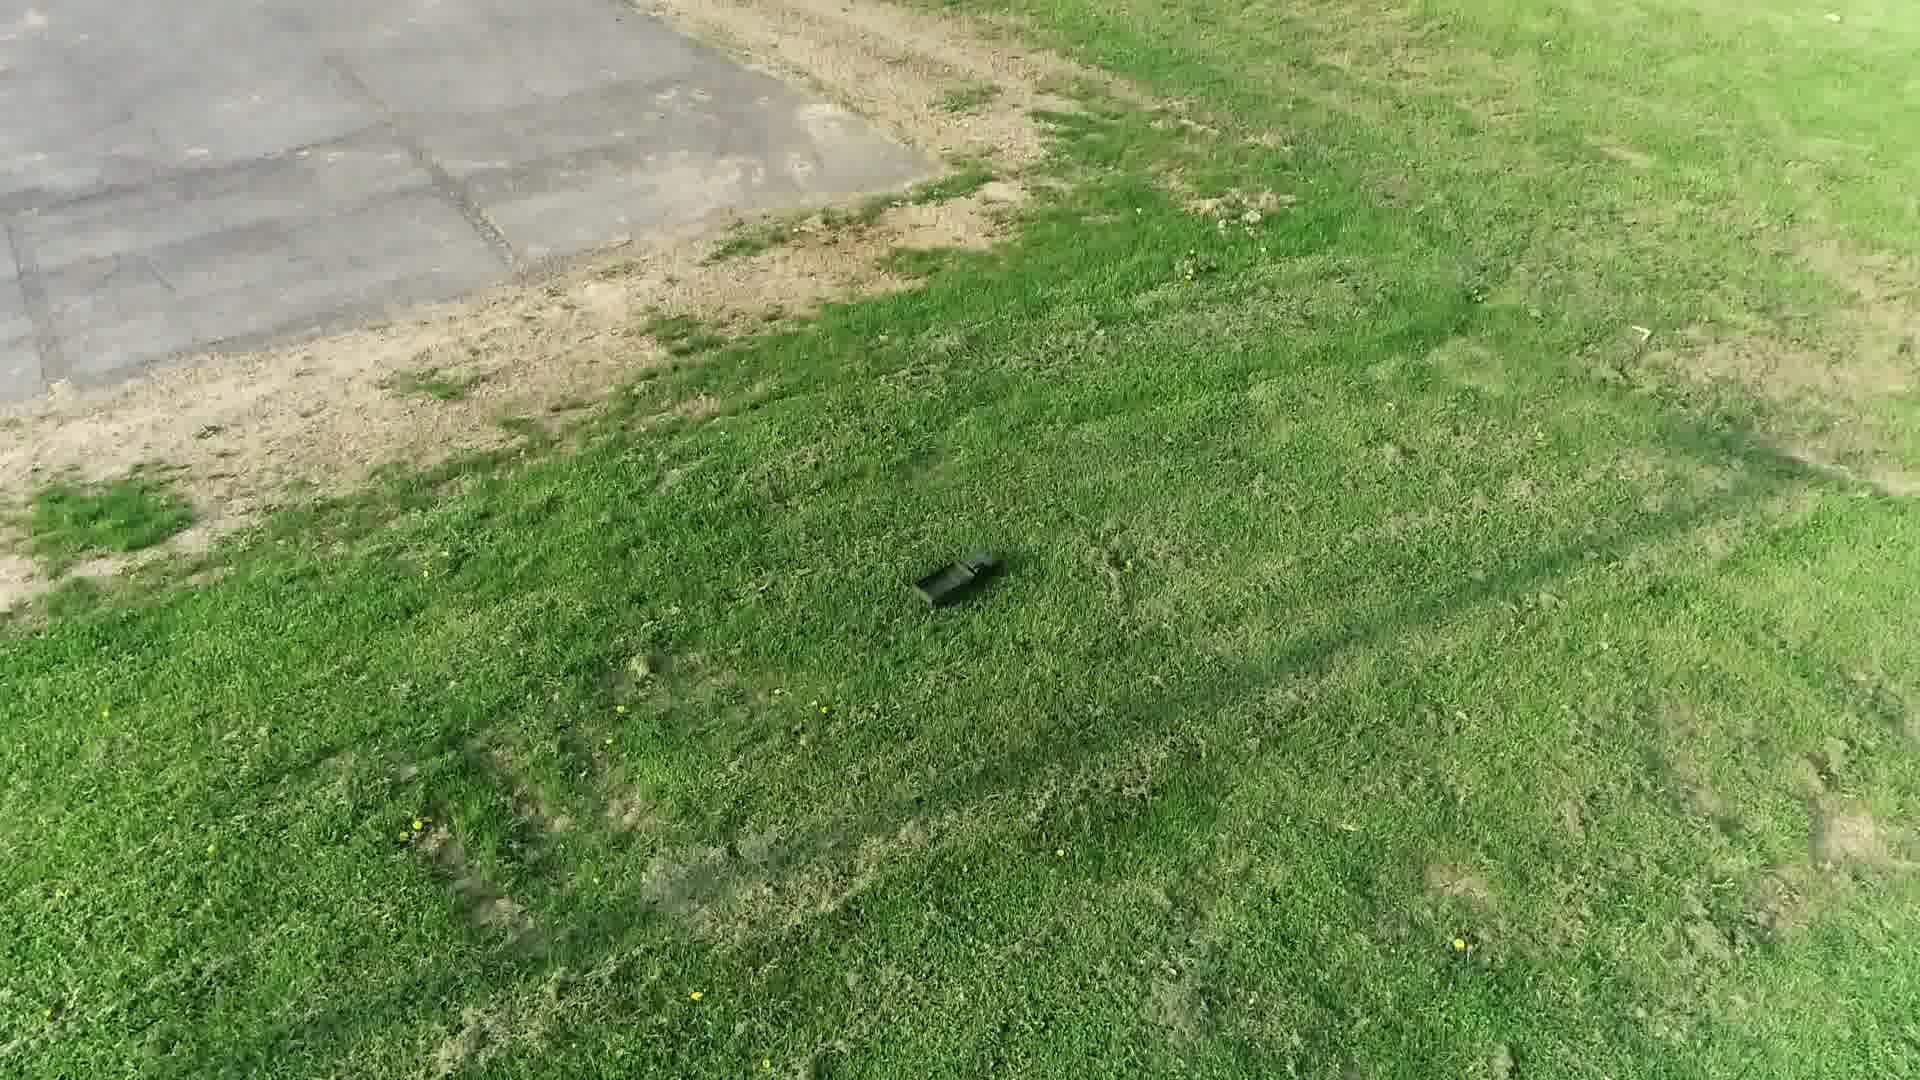transporter9: (906, 547, 1001, 611)
